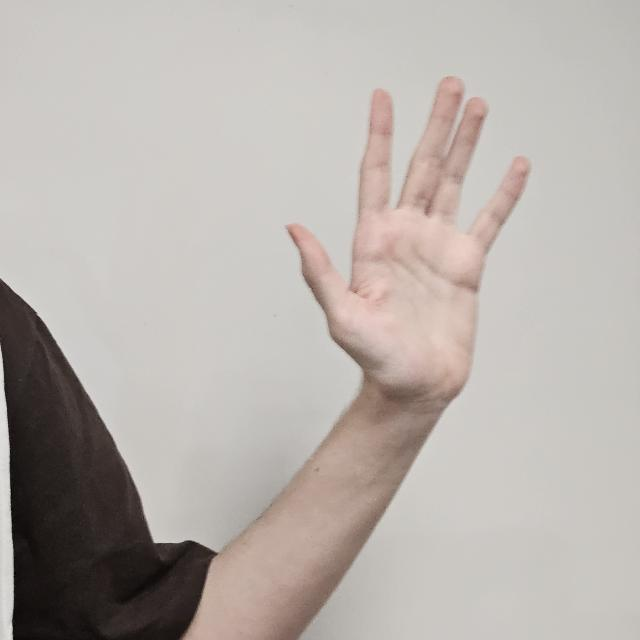X: (288, 76, 530, 412)
